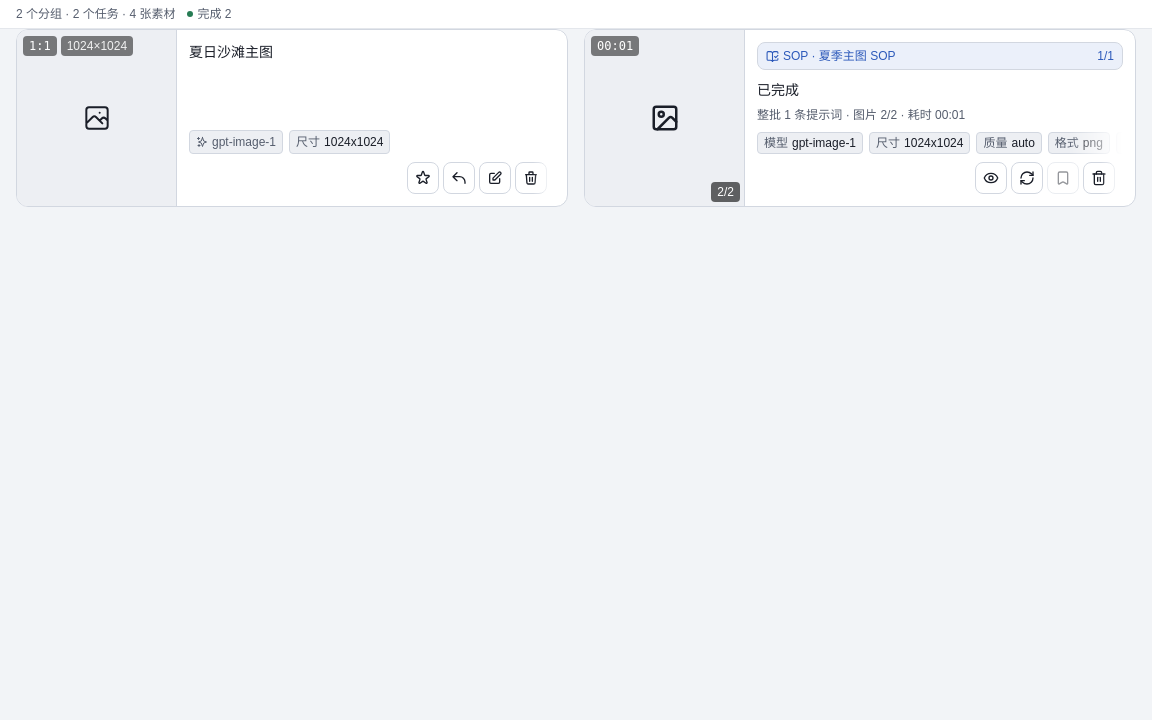
Test: AssetGroupedView（分组视图 · 任务卡片形式） › opens the SOP batch detail modal on a plain card click
Click the button with aria-label "夏季主图 SOP，2 张" at (860, 129), box [584,29,1136,229]
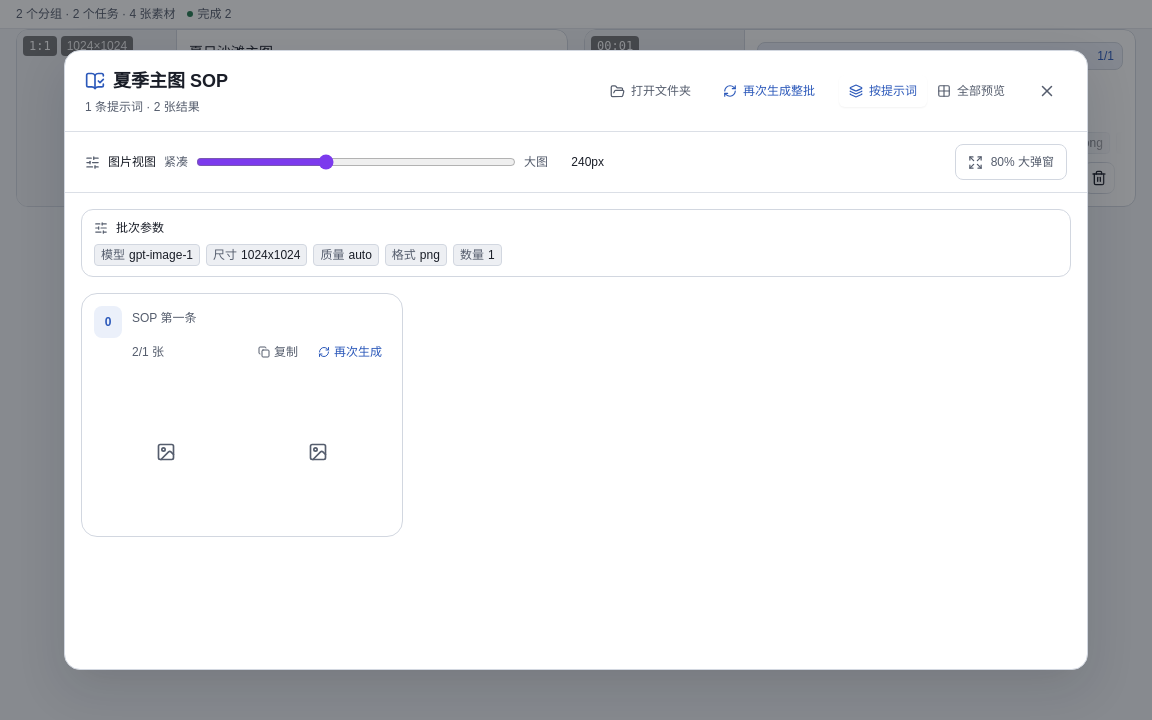
Check: the number of dialogs is 1
